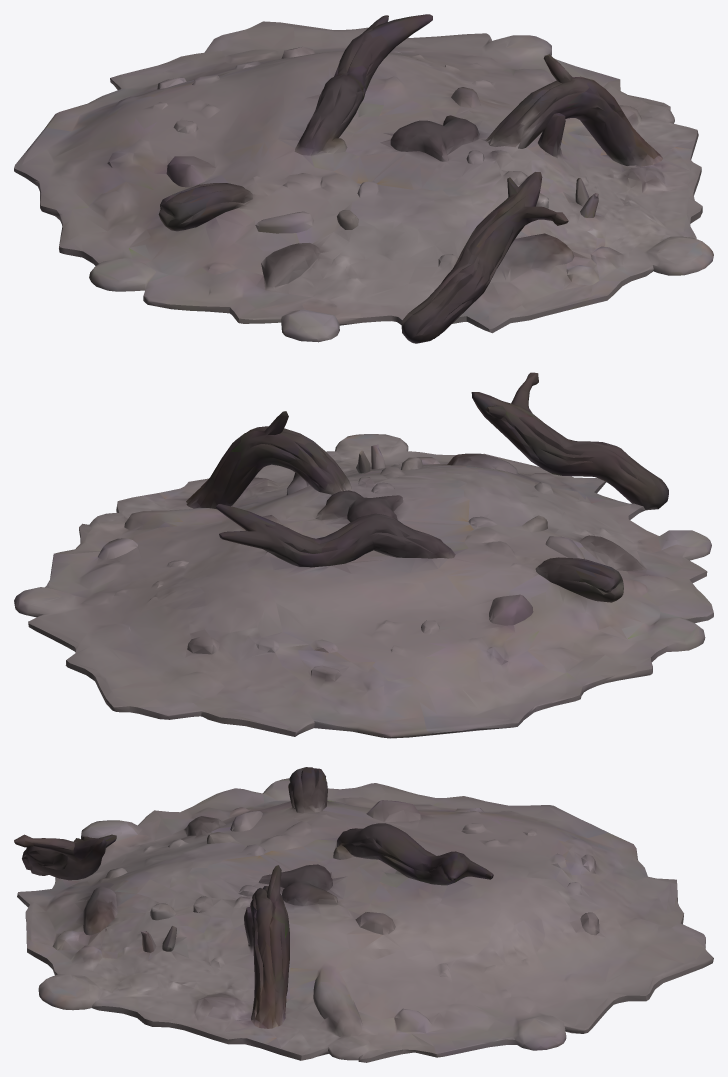
The model's file is ramas_suelo.glb.
The picture shows the model from 3 angles, top to bottom: view 1: azimuth 30°, elevation 25°; view 2: azimuth 150°, elevation 25°; view 3: azimuth 270°, elevation 25°; orthographic projection. The views are drawn at different scales.
Parts seen in each view (by area): view 1: ramas_suelo_malla; view 2: ramas_suelo_malla; view 3: ramas_suelo_malla.
Part boxes in pixels (x1=…): ramas_suelo_malla: x1=14, y1=14, x2=713, y2=343; ramas_suelo_malla: x1=14, y1=372, x2=713, y2=738; ramas_suelo_malla: x1=14, y1=767, x2=713, y2=1062.
Size of the model in its own units: 0.2333 by 0.0481 by 0.2469.
Materials: 1 (1 with a texture image).
